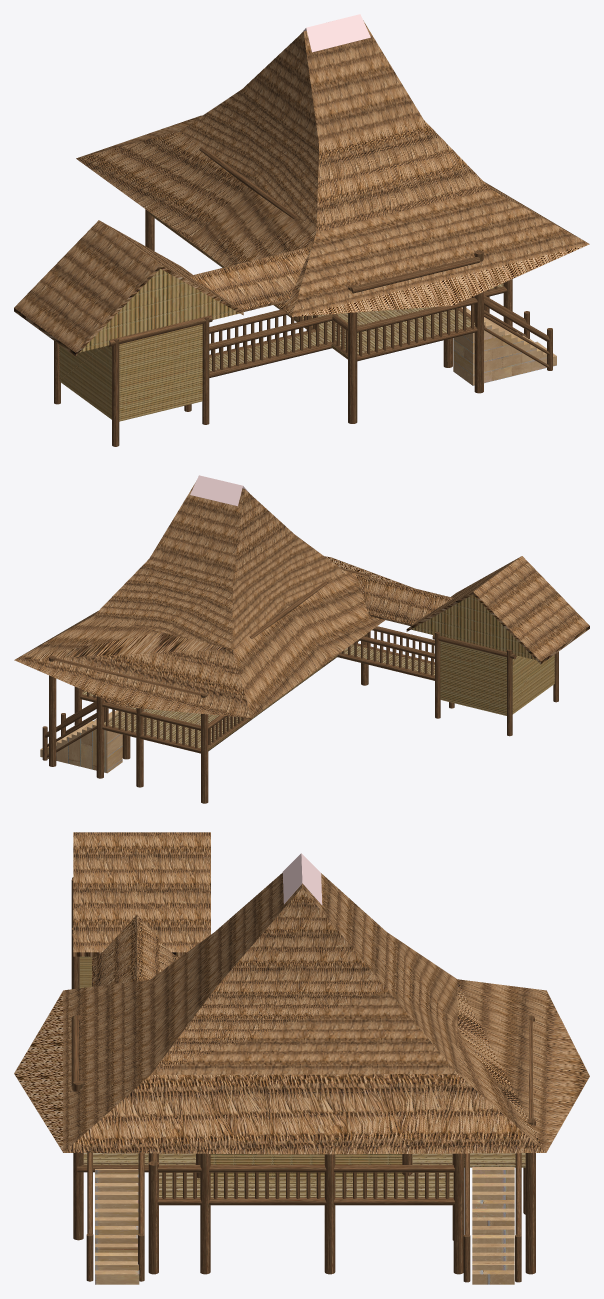
Rendered from residencia.fbx.
The picture shows the model from 3 angles, top to bottom: view 1: azimuth 30°, elevation 25°; view 2: azimuth 150°, elevation 25°; view 3: azimuth 270°, elevation 25°; orthographic projection. The views are drawn at different scales.
Parts seen in each view (by area): view 1: Atop.001, Cube.024, Plane.009, Plane.011, Cube.023, Plane.001, Cube.019, Plane.007, Atop2.001, Cylinder.279, Cylinder.292, Cylinder.350 (+9 smaller); view 2: Atop.001, Cube.024, Plane.008, Plane.010, Cube.023, Plane.001, Cube.021, Plane.007, Atop2.001, Cylinder.249, Cylinder.251, Cylinder.250 (+10 smaller); view 3: Atop.001, Cube.024, Plane.001, Cube.019, Cube.021, Cube.023, Plane.003, Cylinder.205, Cylinder.202, Cylinder.204, Cylinder.249, Cylinder.125 (+4 smaller).
Part boxes in pixels (x1,y1,x2,y2): Atop.001: (76,20,589,316); Cube.024: (14,220,243,356); Plane.009: (119,324,202,421); Plane.011: (79,269,239,352); Cube.023: (189,246,311,311); Plane.001: (148,212,503,371); Cube.019: (453,307,556,385); Plane.007: (59,345,111,419); Atop2.001: (301,14,370,52); Cylinder.279: (348,284,357,423); Cylinder.292: (474,250,483,393); Cylinder.350: (351,257,480,293); Atop.001: (14,482,412,718); Cube.024: (406,556,589,664); Plane.008: (440,641,506,715); Plane.010: (411,595,535,659); Cube.023: (356,574,453,625); Plane.001: (82,633,434,750); Cube.021: (40,710,122,773); Plane.007: (512,655,554,714); Atop2.001: (190,475,249,506); Cylinder.249: (49,655,56,766); Cylinder.251: (201,693,208,803); Cylinder.250: (96,672,103,778); Atop.001: (14,873,589,1154); Cube.024: (73,832,210,956); Plane.001: (83,1153,525,1197); Cube.019: (95,1169,139,1284); Cube.021: (472,1167,514,1284); Cube.023: (92,915,180,986); Plane.003: (210,1154,404,1177); Cylinder.205: (157,1197,454,1205); Cylinder.202: (157,1165,454,1172); Cylinder.204: (324,1154,335,1274); Cylinder.249: (525,1118,535,1274); Cylinder.125: (453,1153,463,1274).
Size of the model in its own units: 6.39 by 5.59 by 3.7.
